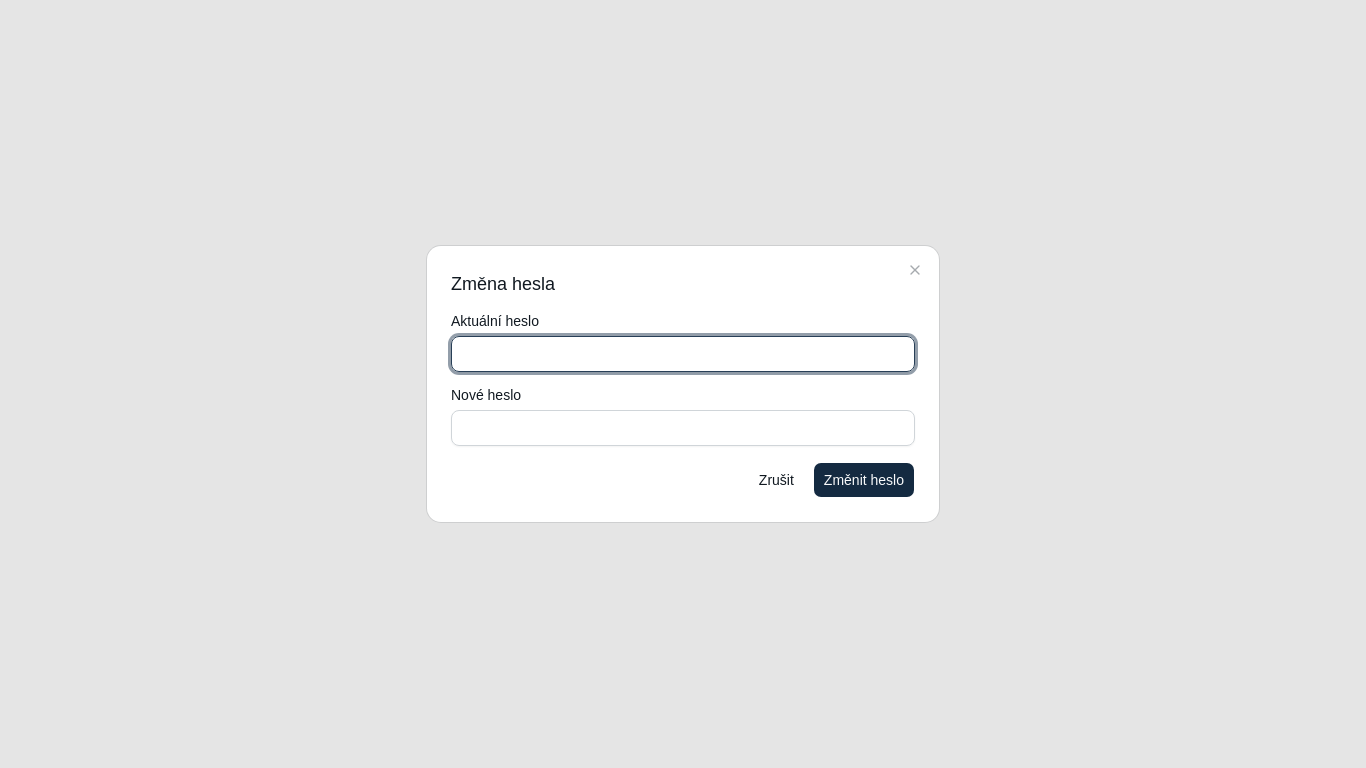
Scenario: ChangePasswordDialog › reports a wrong current password inline and changes nothing
The image size is (1366, 768).
Type "spatne" into the password field labelled "Aktuální heslo" at (683, 354), box 451,336 -> 915,372
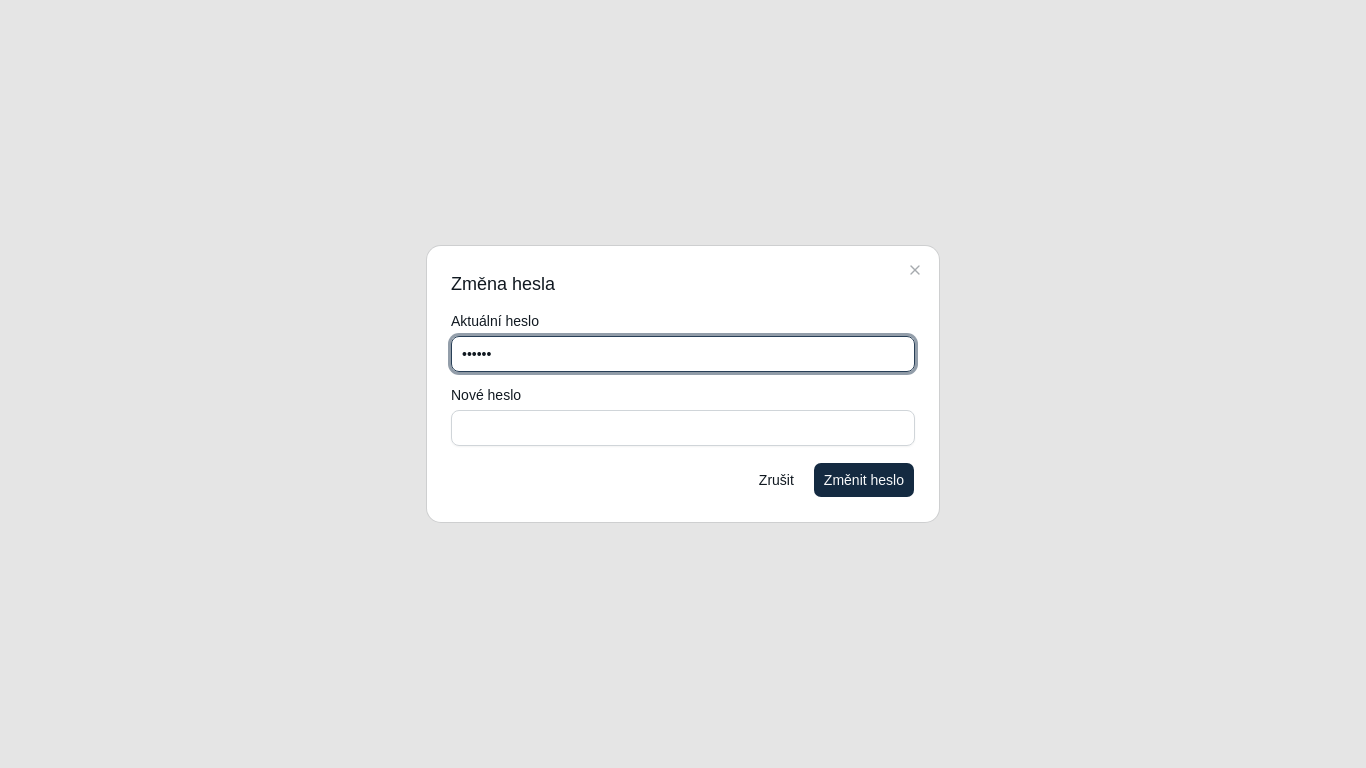
Type "nove-heslo-123" into the password field labelled "Nové heslo" at (683, 428), box 451,410 -> 915,446
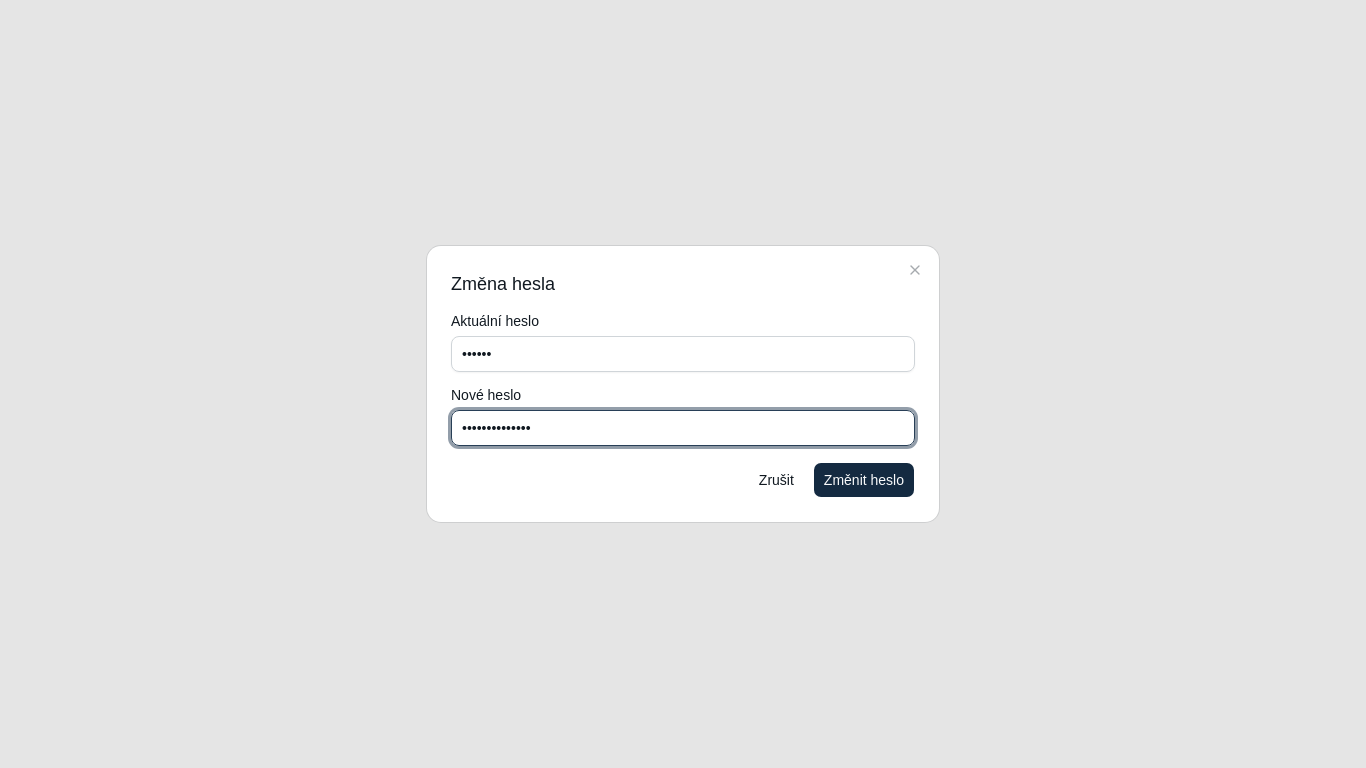
Click the button "Změnit heslo" at (864, 480), box 813,462 -> 915,498
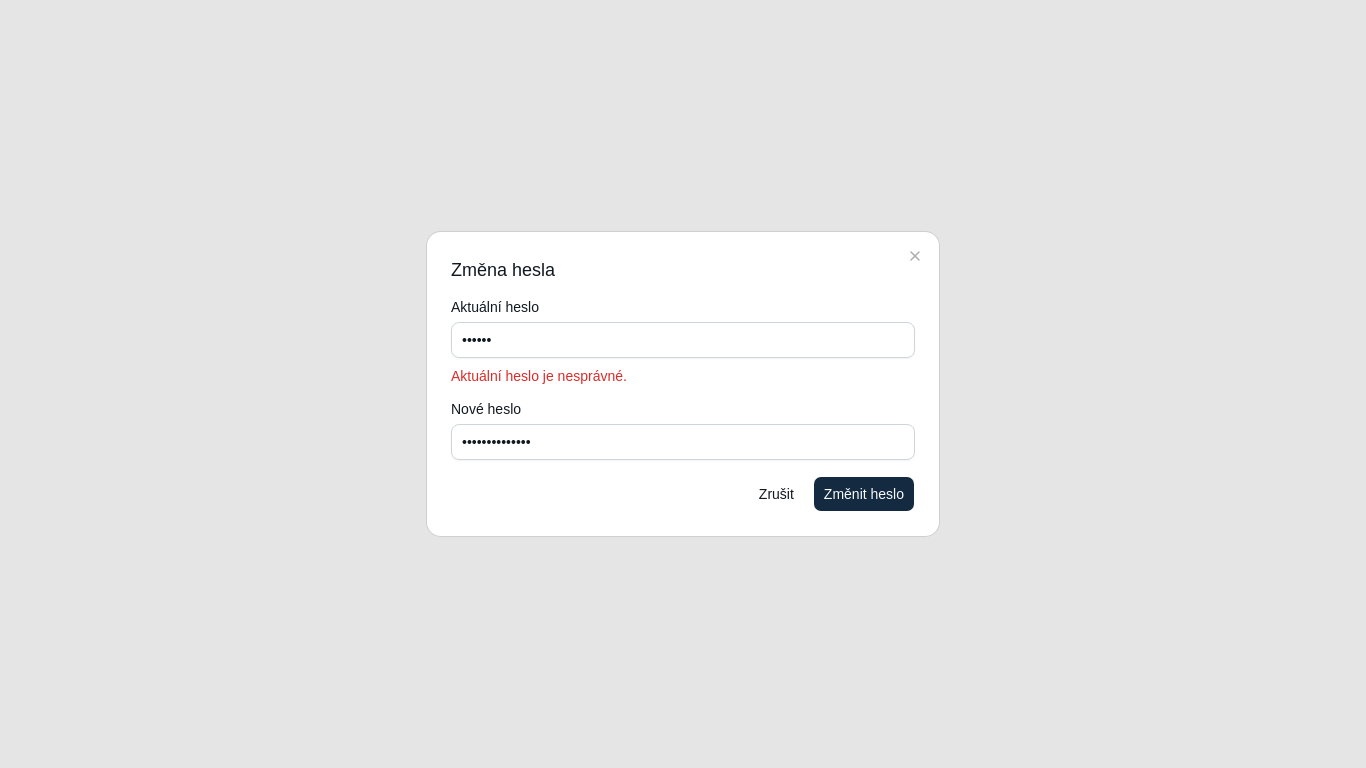
Result: the text "Aktuální heslo je nesprávné." is shown at 451,368 -> 627,384
